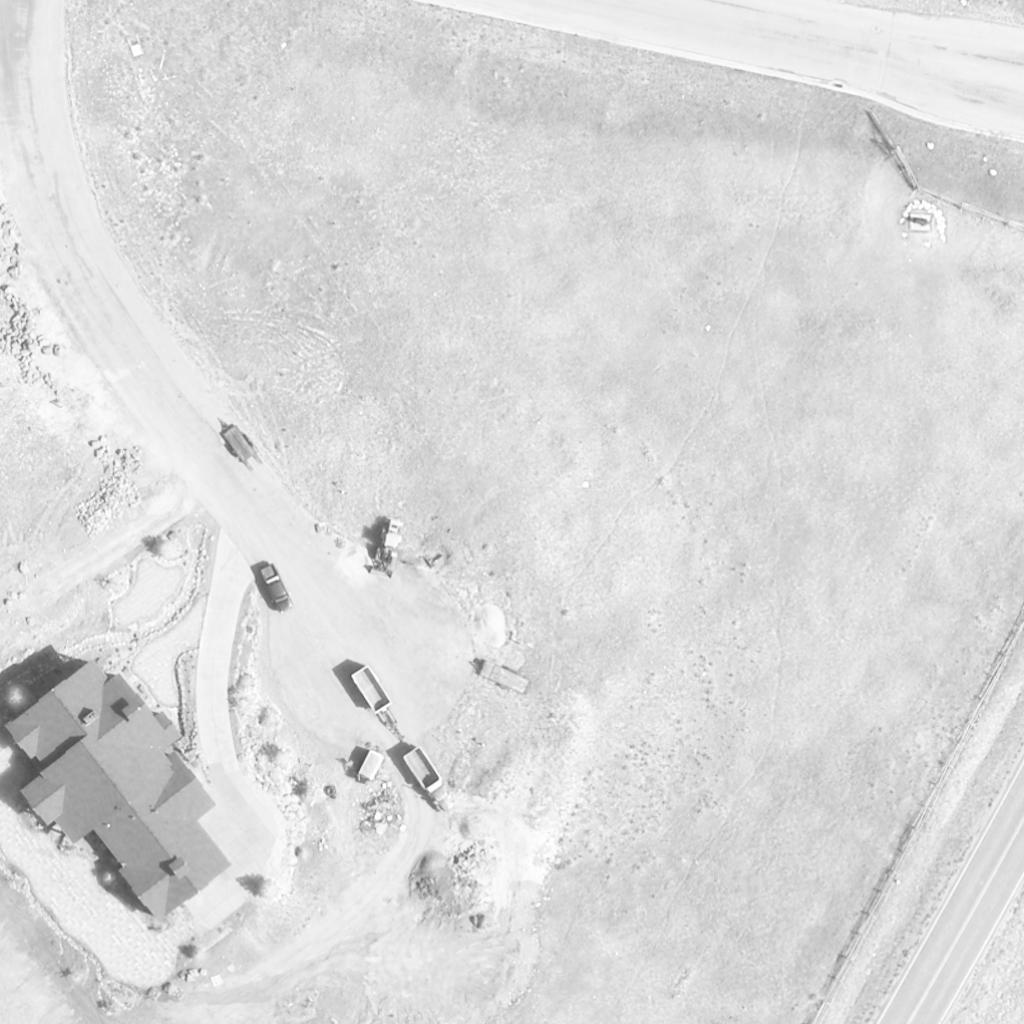vehicle: (402, 747, 458, 815), (367, 517, 405, 583), (262, 564, 290, 614)
